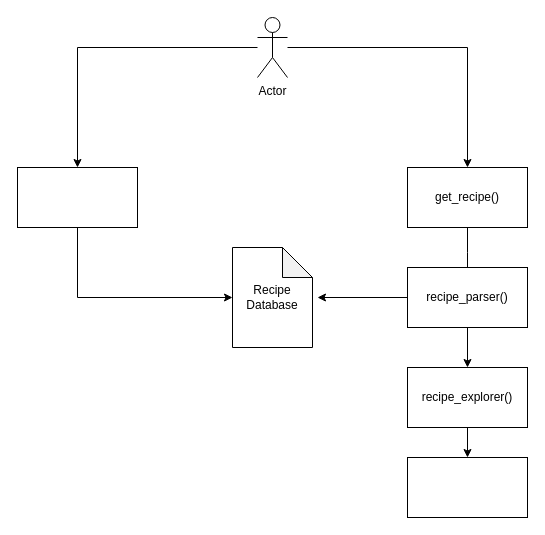
Some shapes in this 545 by 535 pixel diagram are drawn without their labels. The centre of each missing label's shape, as x and y in pixels:
recipe_action(): the point at 467,487
store_recipe(): the point at 77,197
